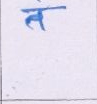anusvara: (37, 0, 42, 2)
